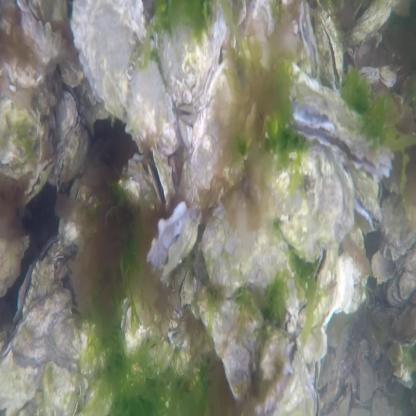Oyster- Indeterminate: (297, 249, 354, 327), (14, 236, 64, 321), (262, 354, 321, 416), (315, 6, 342, 92), (119, 296, 145, 359), (21, 159, 56, 204), (300, 2, 319, 78), (55, 84, 79, 142), (379, 65, 398, 88), (359, 67, 379, 86), (310, 361, 321, 388)
Oyster-Closed: (73, 0, 175, 153), (247, 138, 354, 257), (203, 189, 289, 291), (199, 289, 265, 404), (13, 281, 80, 365), (126, 59, 176, 146), (0, 97, 45, 175), (22, 12, 68, 67), (380, 194, 416, 257), (42, 362, 82, 416), (350, 0, 391, 44), (224, 341, 252, 400), (297, 328, 328, 362), (401, 273, 416, 299)
Oyster-Open: (277, 67, 394, 178), (147, 204, 201, 281), (147, 145, 177, 214), (292, 87, 338, 130), (354, 172, 382, 230), (179, 106, 196, 122), (70, 305, 82, 318)
